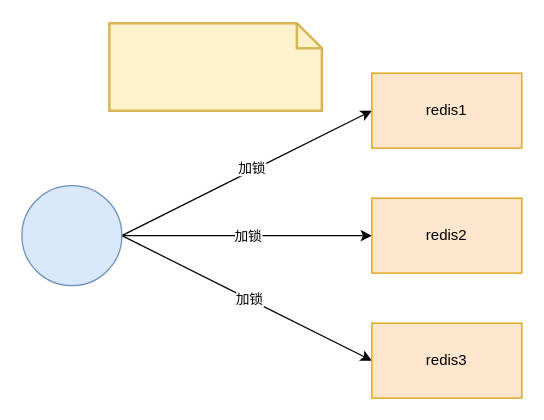
The diagram is 544 pixels wide and 420 high, and some of its shapes have lost their labels. The centre of each missing label's shape, as x and y in pixels:
redis client: pixel 71 235
超过半数redis节点加锁成功才算加锁成功: pixel 215 66
